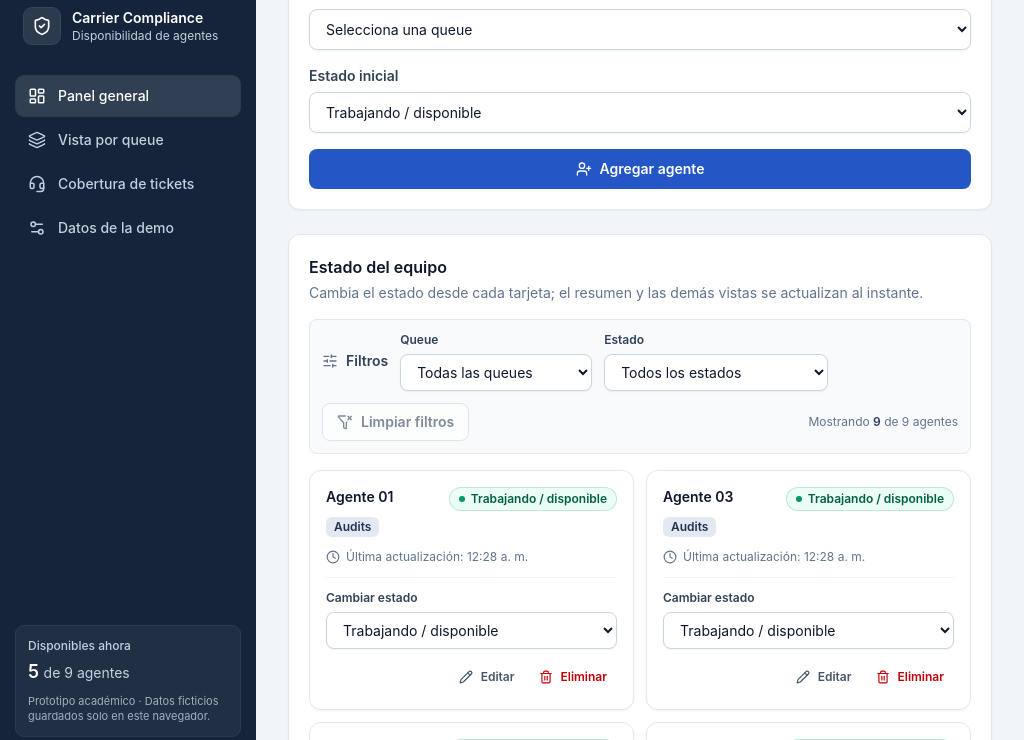
Test: Panel de disponibilidad › filtra por queue, por estado, de forma combinada y limpia filtros
Later steps or results of the test are not shown.
(page scrolled)
Expected: the heading "Estado del equipo" is shown, [309, 257, 447, 277]
Select "Insurance" in the dropdown labelled "Queue": (496, 372) [400, 354, 592, 391]
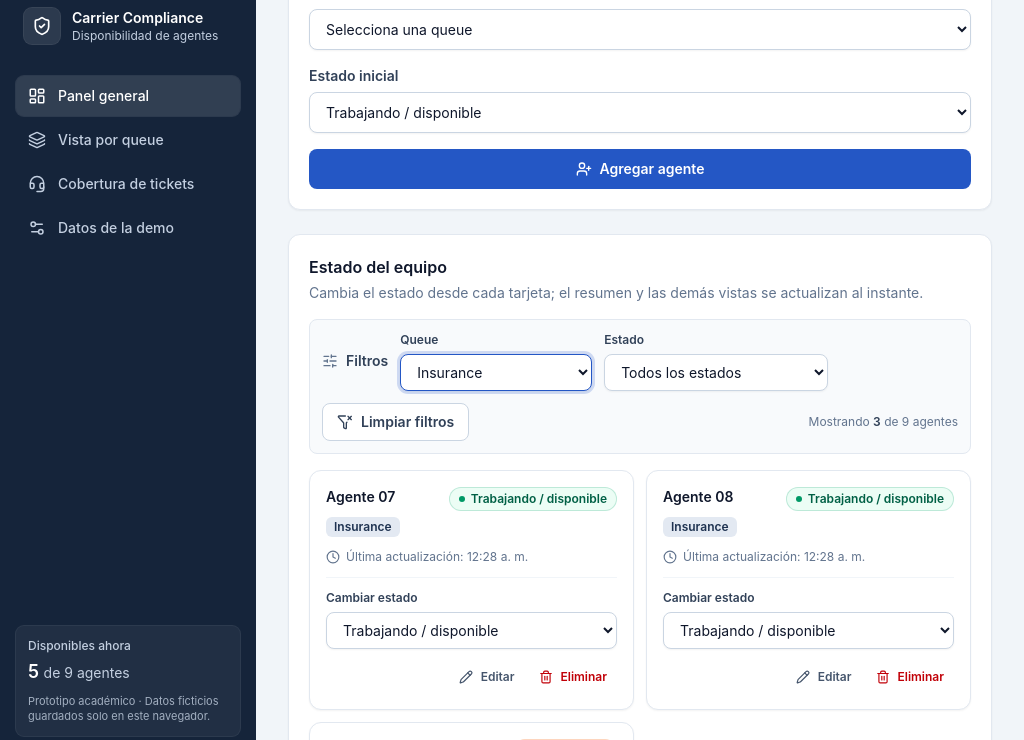
Select "Trabajando / disponible" in the dropdown labelled "Estado": (716, 372) [604, 354, 828, 391]
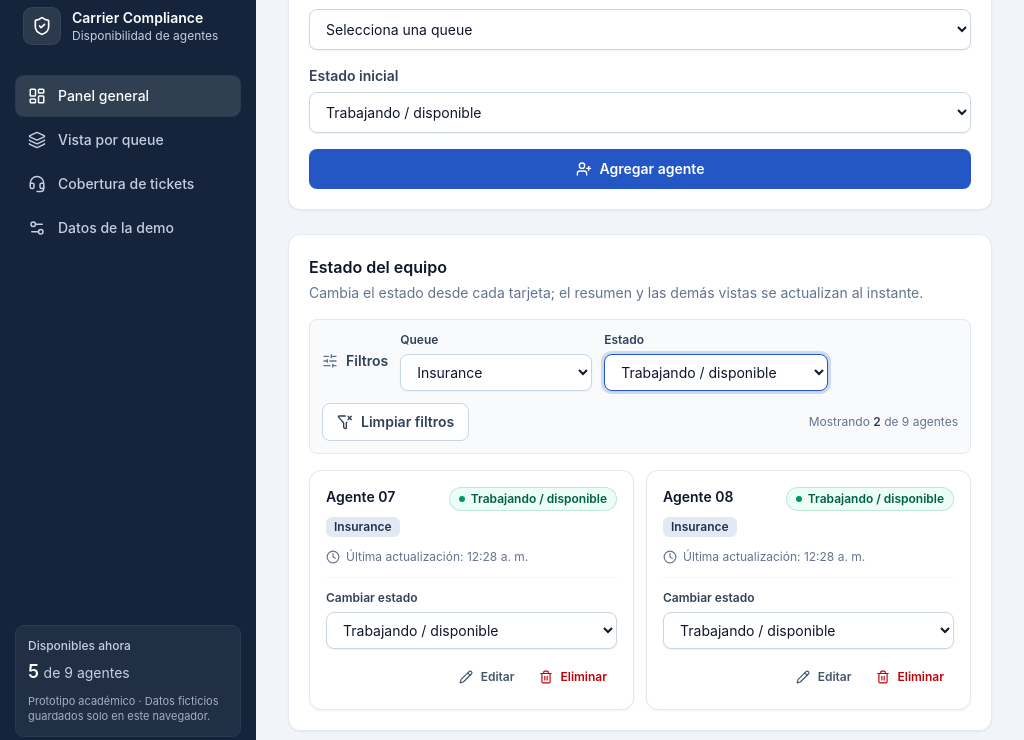
Select "Todas las queues" in the dropdown labelled "Queue": (496, 372) [400, 354, 592, 391]
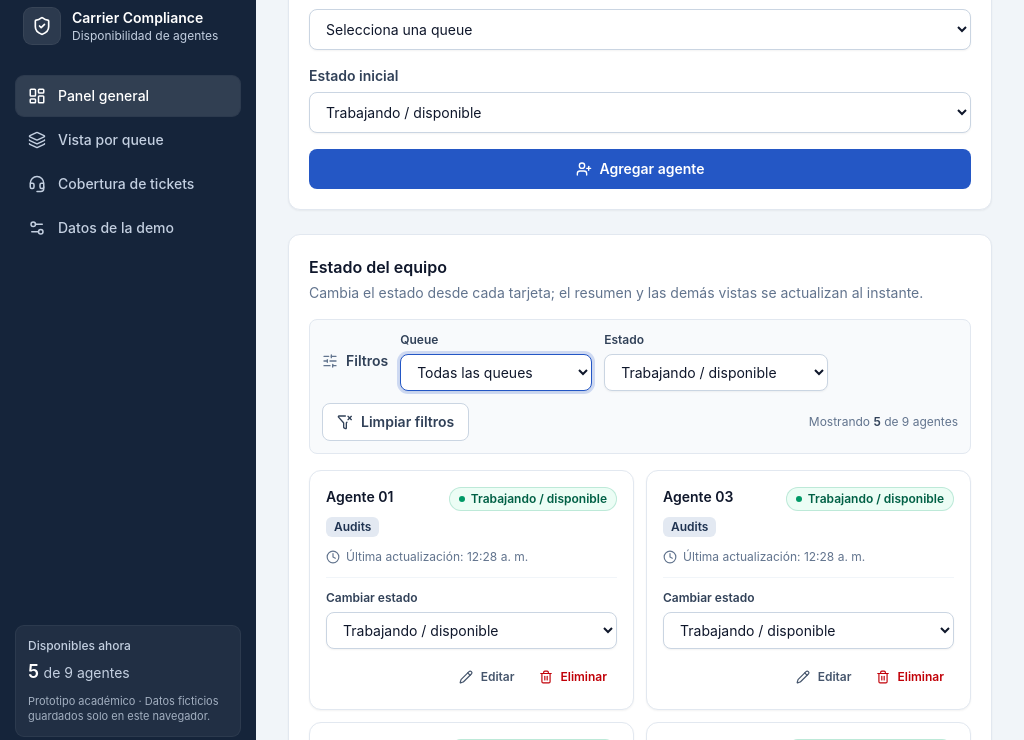
Select "Fuera de línea" in the dropdown labelled "Estado": (716, 372) [604, 354, 828, 391]
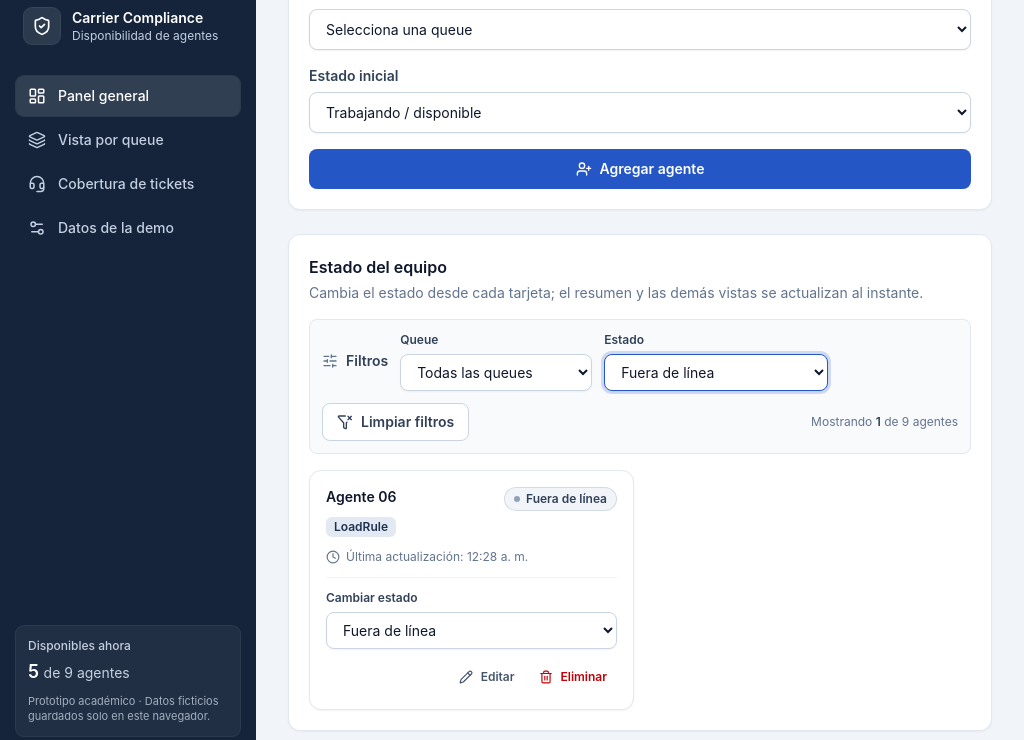
Select "Audits" in the dropdown labelled "Queue": (496, 372) [400, 354, 592, 391]
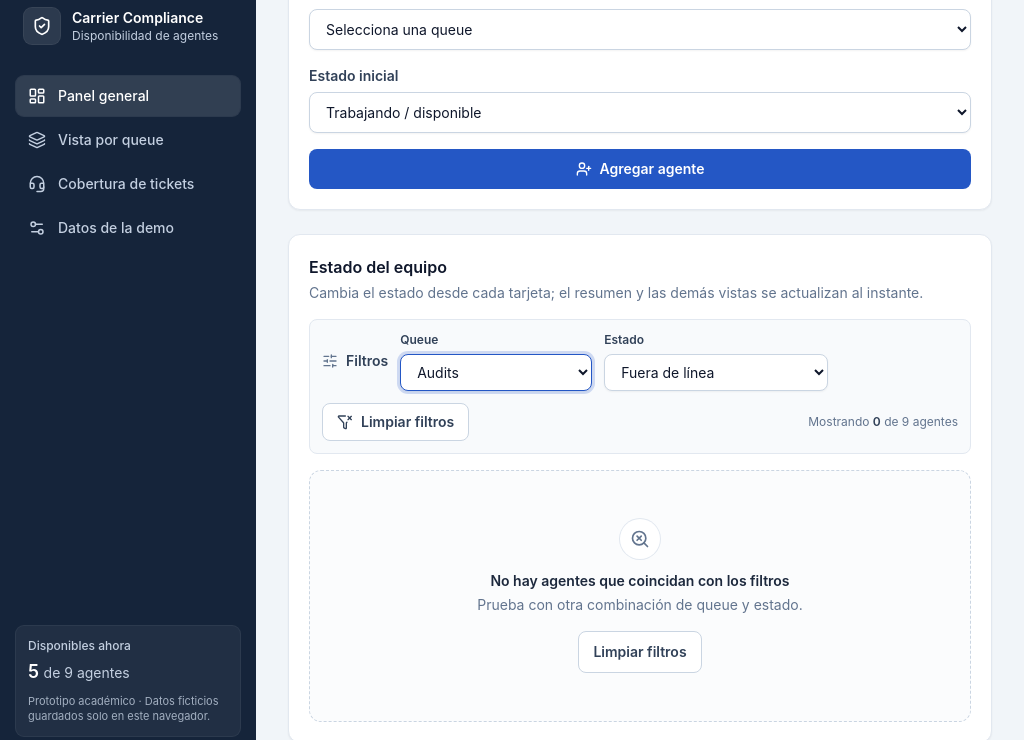
Expected: the text "No hay agentes que coincidan con los filtros" is shown, [490, 571, 790, 591]
